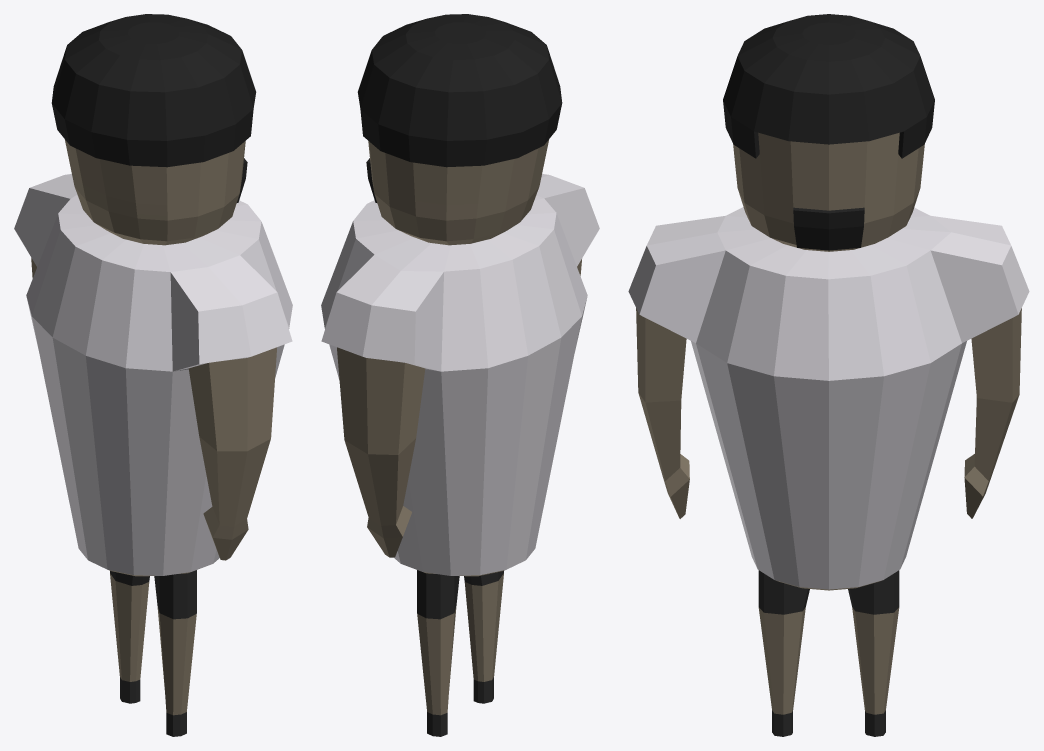
File: Client_man2.fbx
3 renders of one model, left to right at view 1: azimuth 30°, elevation 25°; view 2: azimuth 150°, elevation 25°; view 3: azimuth 270°, elevation 25°, orthographic. The views are drawn at different scales.
Parts seen in each view (by area): view 1: Client_man2; view 2: Client_man2; view 3: Client_man2.
Part boxes in pixels (box(x1,y1,x2,y2)): Client_man2: box(14, 14, 292, 736); Client_man2: box(321, 14, 599, 736); Client_man2: box(628, 14, 1029, 736).
Bounding box in the file's own units: 119 × 77.99 × 229.
